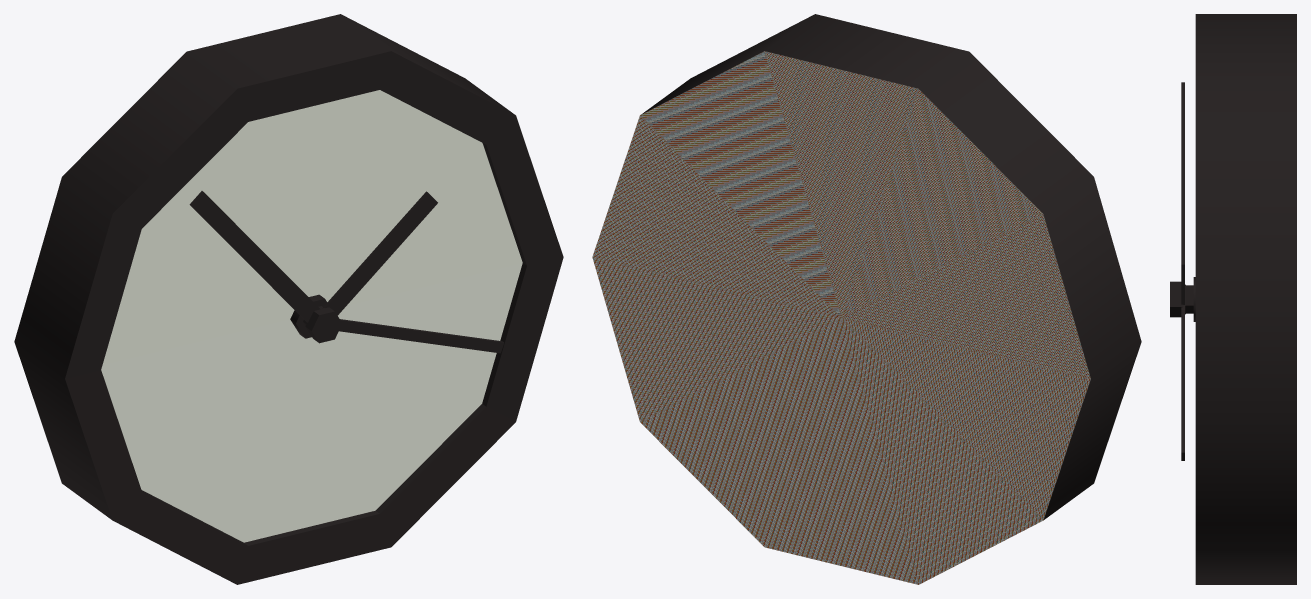
File: 27_prop_clock.FBX
3 renders of one model, left to right at view 1: azimuth 30°, elevation 25°; view 2: azimuth 150°, elevation 25°; view 3: azimuth 270°, elevation 25°, orthographic.
Parts seen in each view (by area): view 1: prop_clock, an hour hand, a minute hand, a second hand; view 2: prop_clock; view 3: prop_clock, an hour hand, a second hand, a minute hand.
Part boxes in pixels (box(x1,y1,x2,y2)): prop_clock: box(14, 14, 563, 584); an hour hand: box(189, 191, 320, 322); a minute hand: box(322, 191, 437, 315); a second hand: box(339, 319, 503, 353); prop_clock: box(592, 14, 1141, 584); prop_clock: box(1170, 14, 1296, 584); an hour hand: box(1181, 82, 1184, 246); a second hand: box(1181, 305, 1184, 460); a minute hand: box(1181, 247, 1184, 304).
Bounding box in the file's own units: 28.42 × 27.03 × 6.26.
